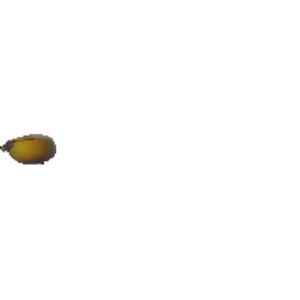banana: (2, 128, 61, 174)
